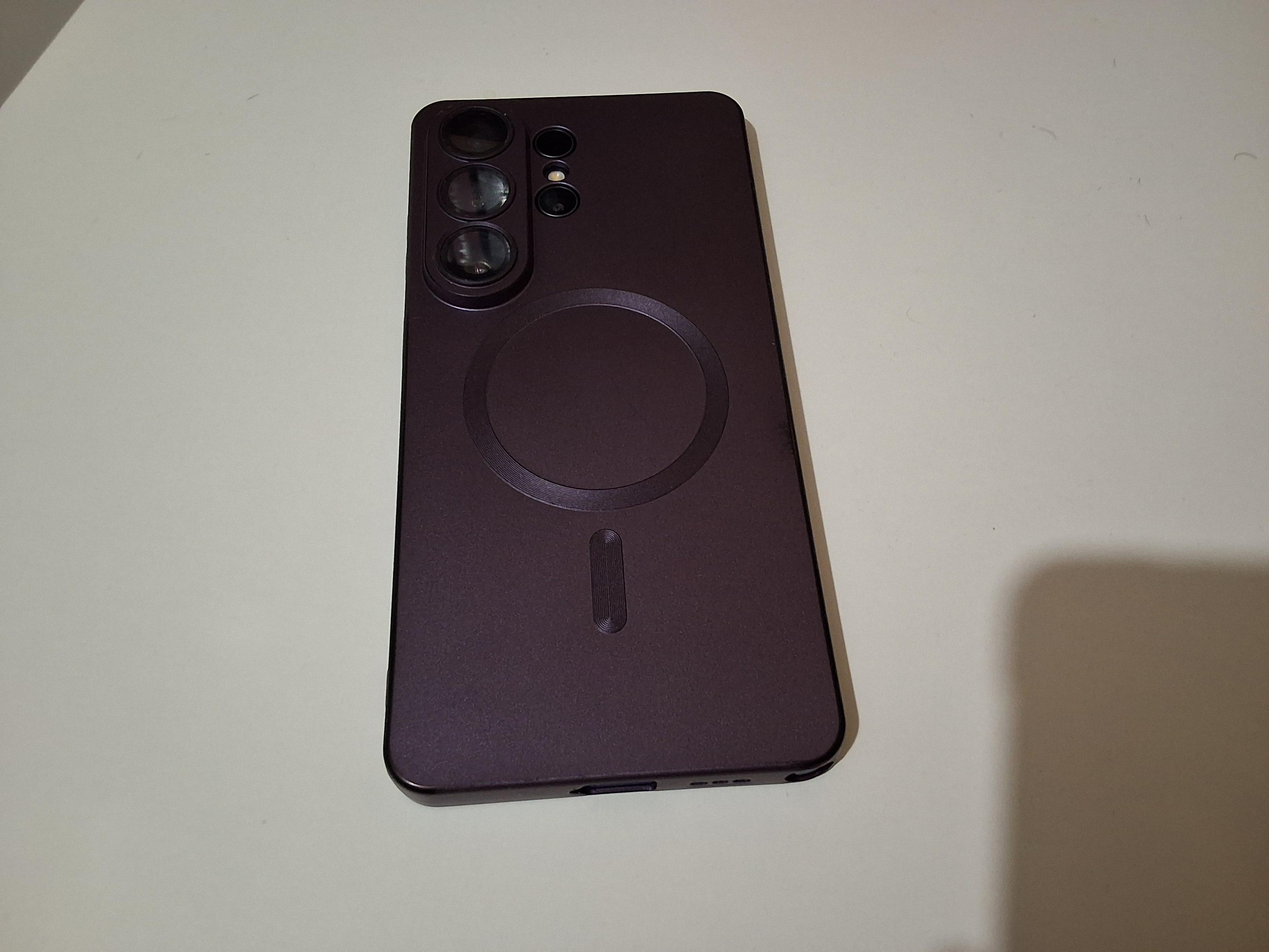smartphone: (384, 91, 854, 806)
